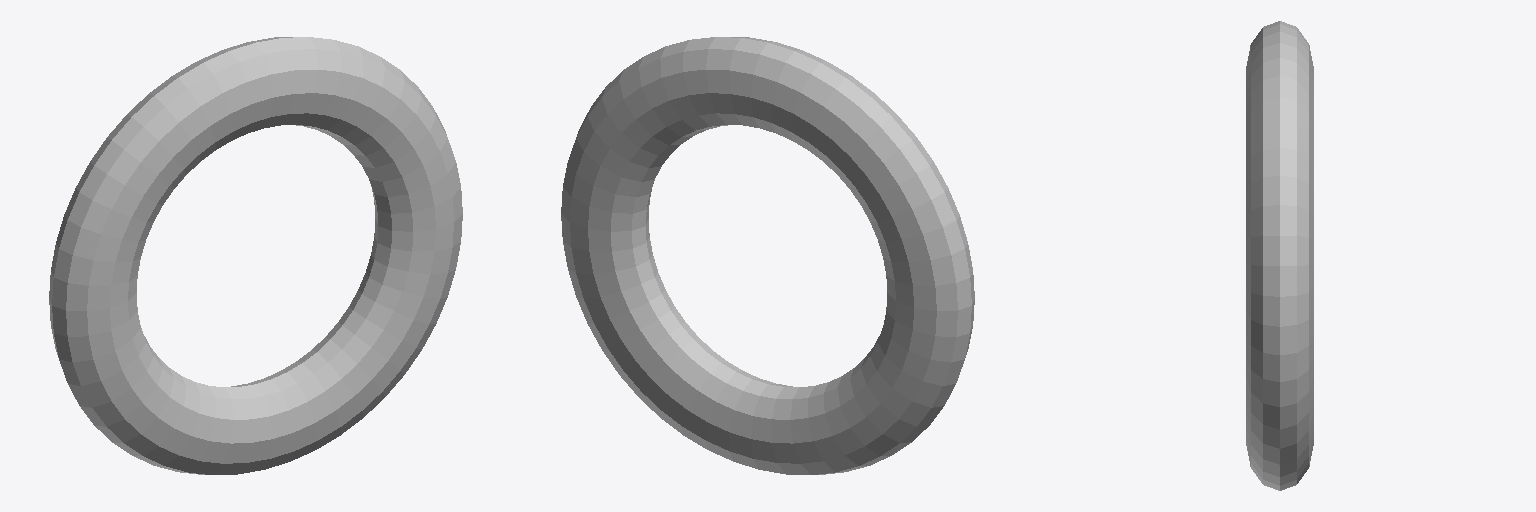
File: Bahrue.obj
3 renders of one model, left to right at view 1: azimuth 30°, elevation 25°; view 2: azimuth 150°, elevation 25°; view 3: azimuth 270°, elevation 25°, orthographic.
Visible parts, largest first — view 1: Torus; view 2: Torus; view 3: Torus.
Part boxes in pixels (left/top/right/bottom): Torus: left=49, top=37, right=462, bottom=474; Torus: left=561, top=37, right=974, bottom=474; Torus: left=1246, top=21, right=1313, bottom=490.
Size of the model in its own units: 2.58 by 2.58 by 0.3704.